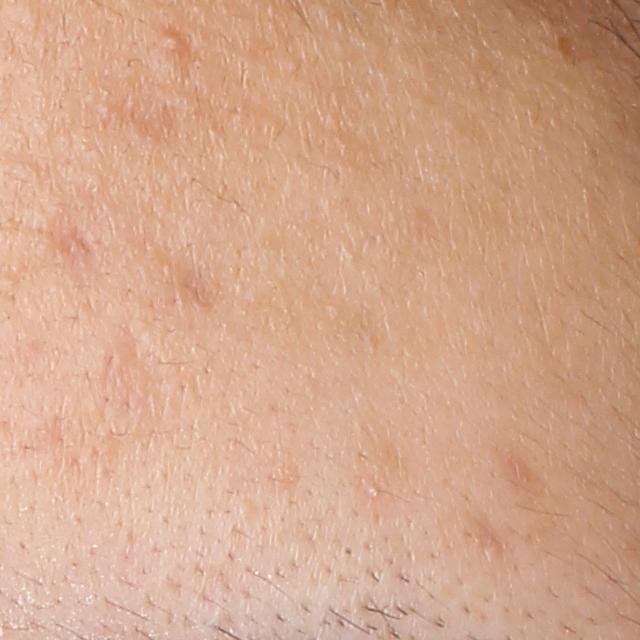comedo: (162, 32, 185, 54)
